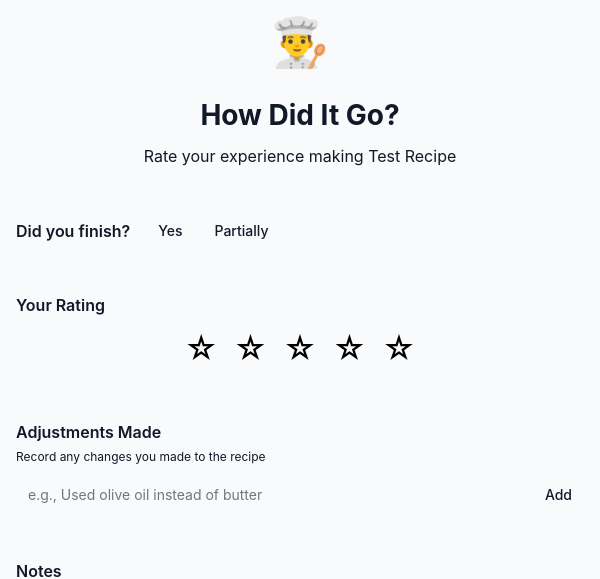
CookCompletion › can remove an adjustment
The width and height of the screenshot is (600, 579).
// Add two adjustments
Step 1. Type "First adjustment" into the field with placeholder "e.g., Used olive oil instead of butter" → [270, 494], box 16,478 -> 525,511
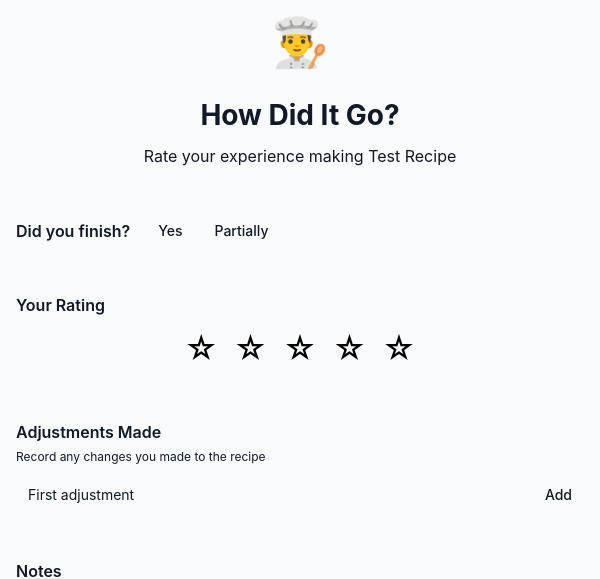
Step 2. Press Enter in the field with placeholder "e.g., Used olive oil instead of butter", box 16,478 -> 525,511
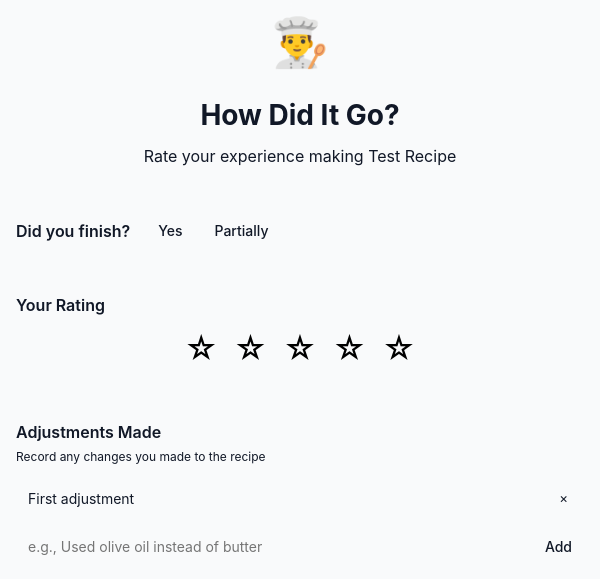
Step 3. Type "Second adjustment" into the field with placeholder "e.g., Used olive oil instead of butter" → [270, 546], box 16,530 -> 525,563
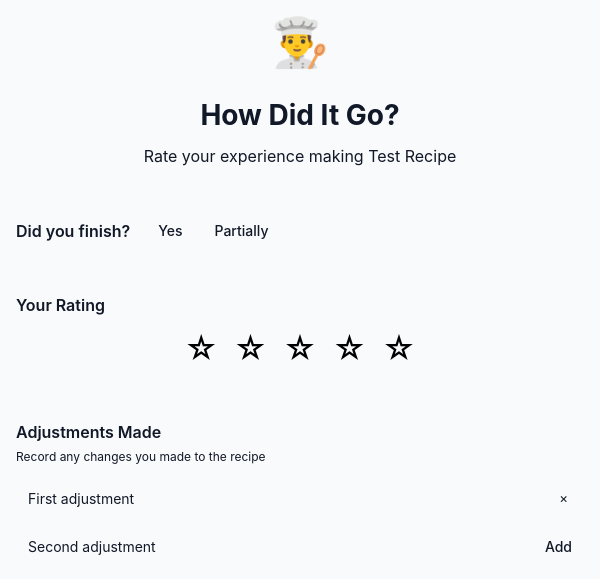
Step 4. Press Enter in the field with placeholder "e.g., Used olive oil instead of butter", box 16,530 -> 525,563
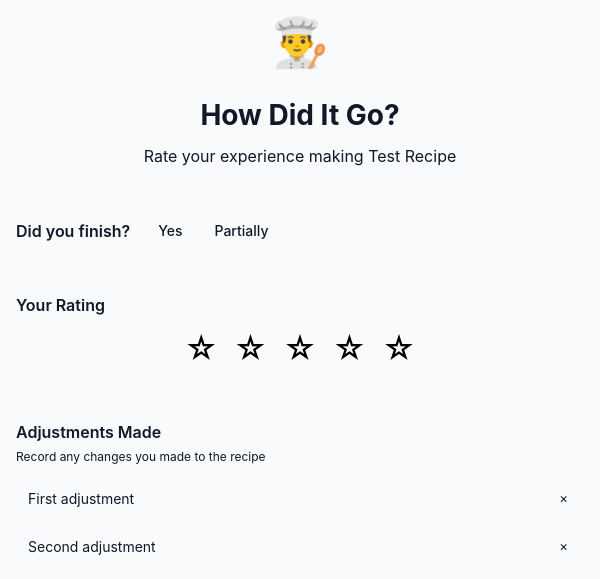
Check: the text "Second adjustment" is shown, box 28,536 -> 156,556
Check: the text "First adjustment" is shown, box 28,488 -> 134,508
// Click the remove button (×) on the first adjustment
Step 5. Click the button "×" in the row of "First adjustment" → [564, 498], box 555,486 -> 572,510
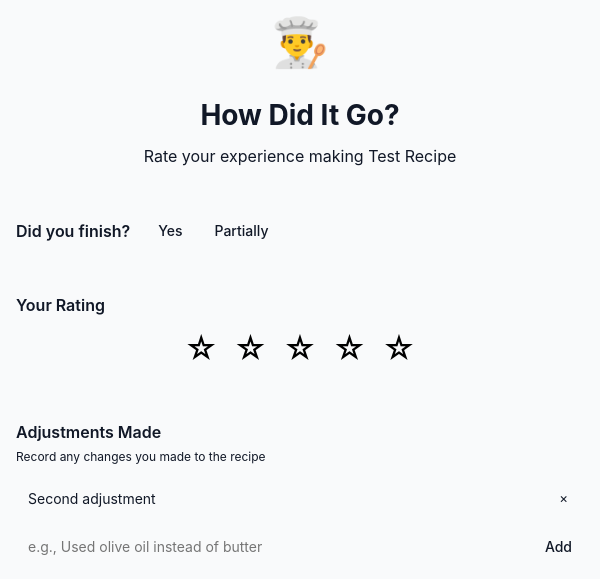
Check: the text "First adjustment" is gone
Check: the text "Second adjustment" is shown, box 28,488 -> 156,508
